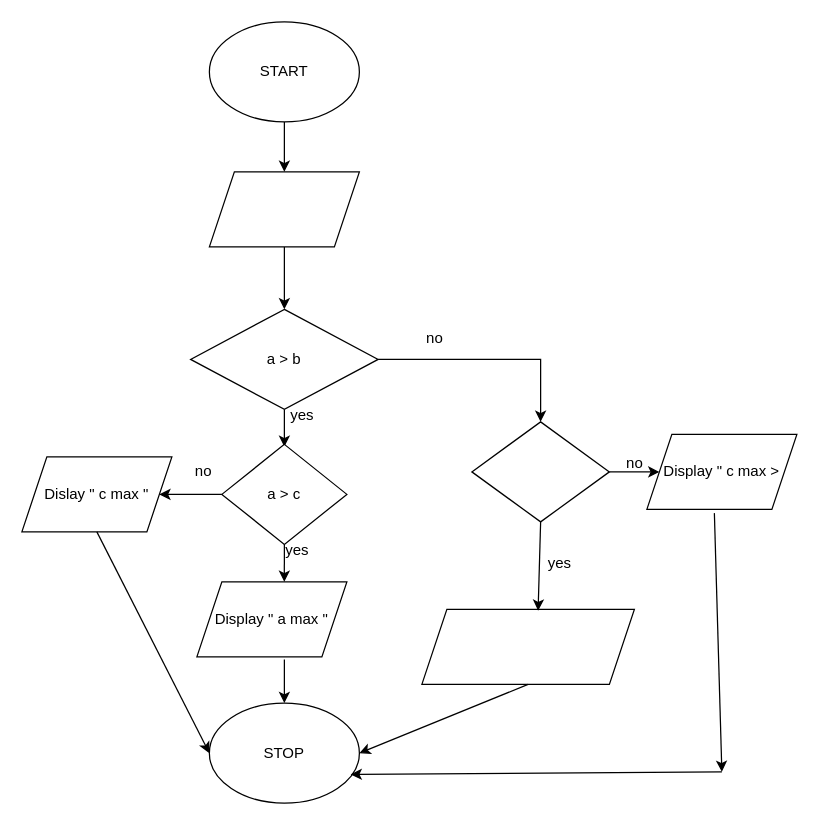
This 819x825 diagram has some shape labels left out. Here are the shapes that lost their labels. From the top down, the centre of each, then its label:
pixel 283 209: INPUT a INPUT b INPUT c
pixel 540 471: b >c
pixel 527 646: Display " b max "
